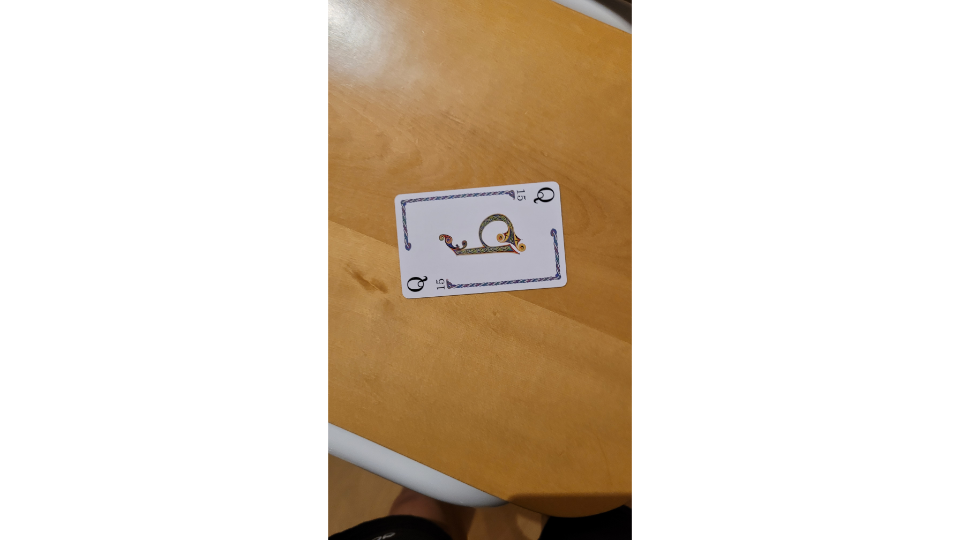Q: (392, 179, 572, 301)
